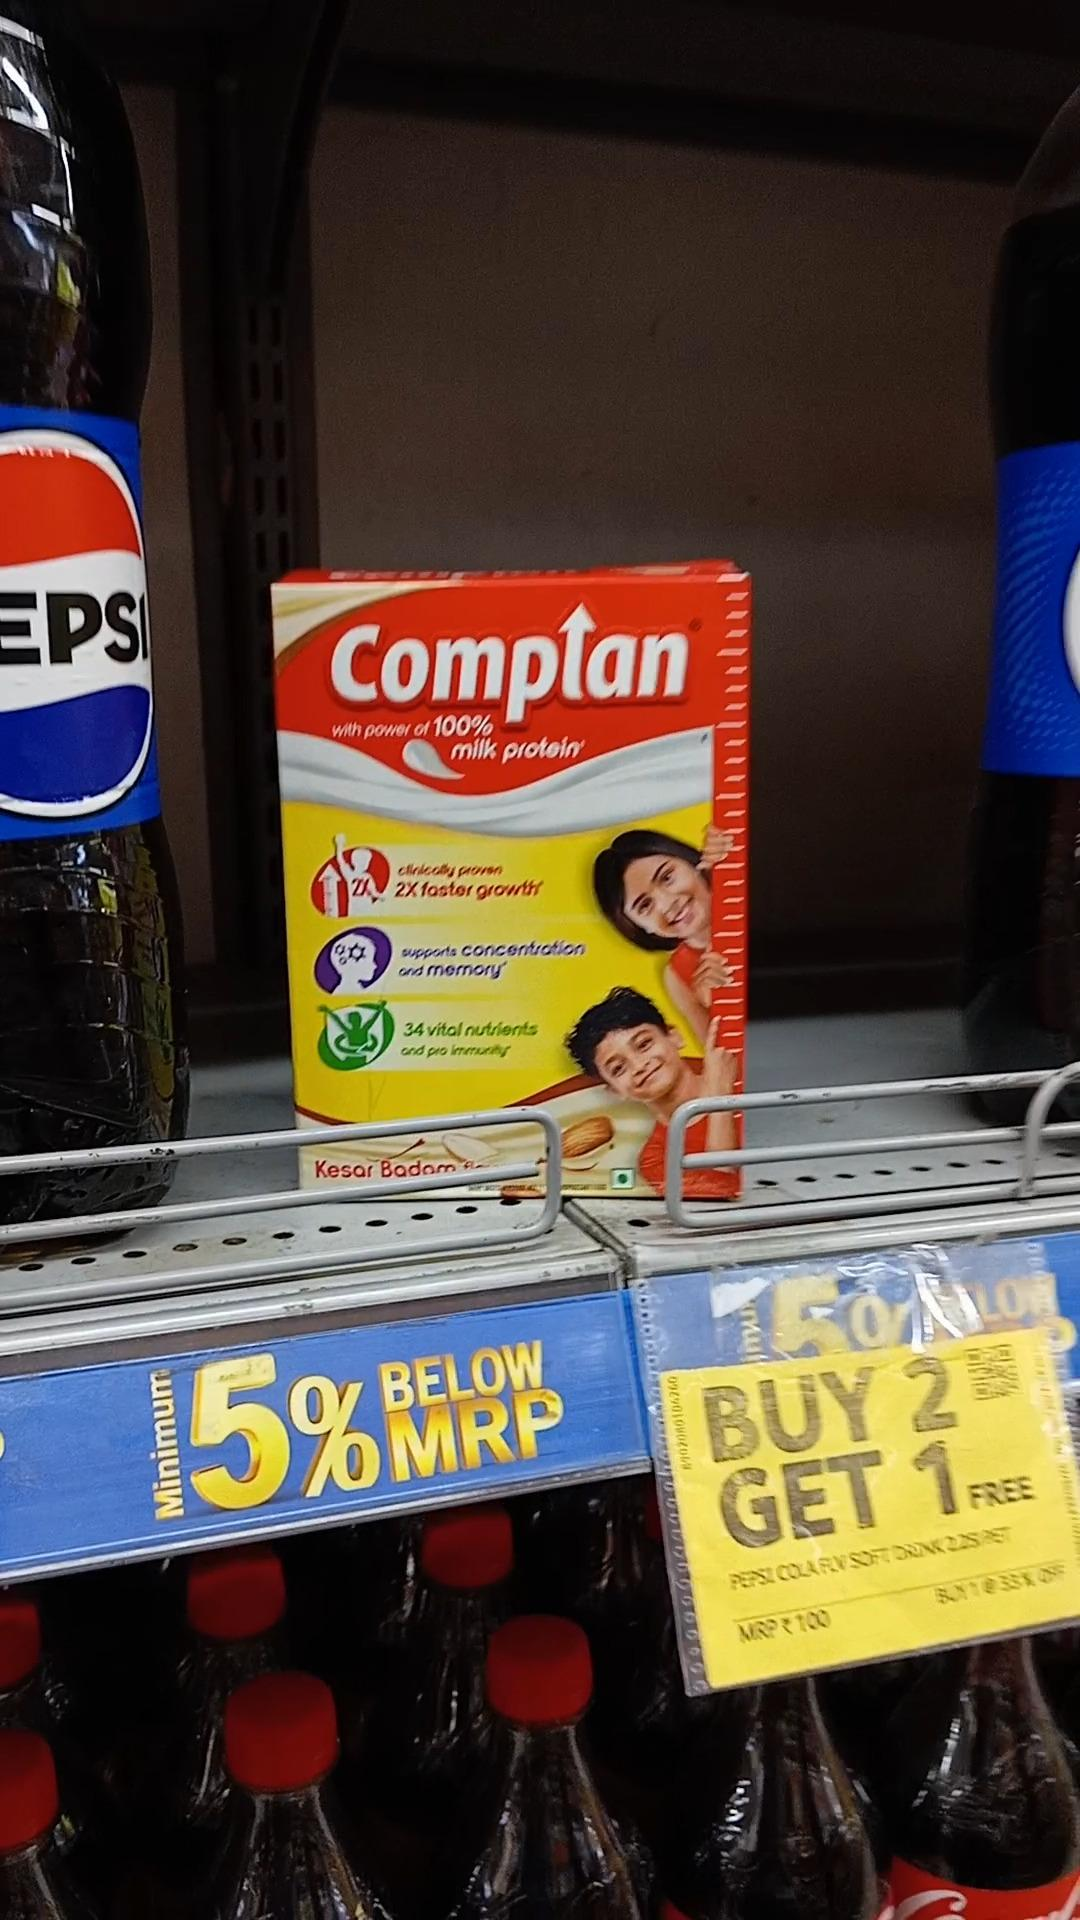COMPLAN_CHOCOLATE_200_GMS_JAR: (282, 579, 727, 1192)
